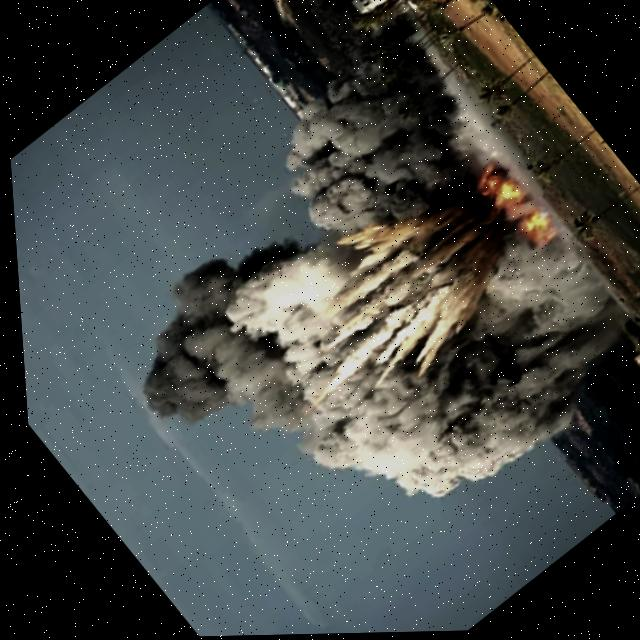Smoke: (32, 12, 640, 627)
